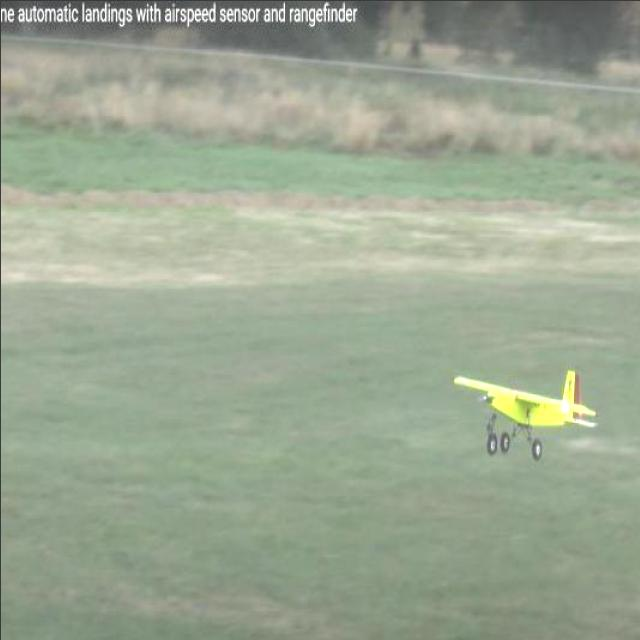plane: (451, 366, 596, 459)
